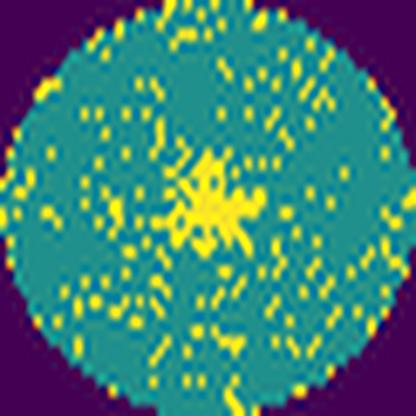Center: (150, 144, 270, 261)
